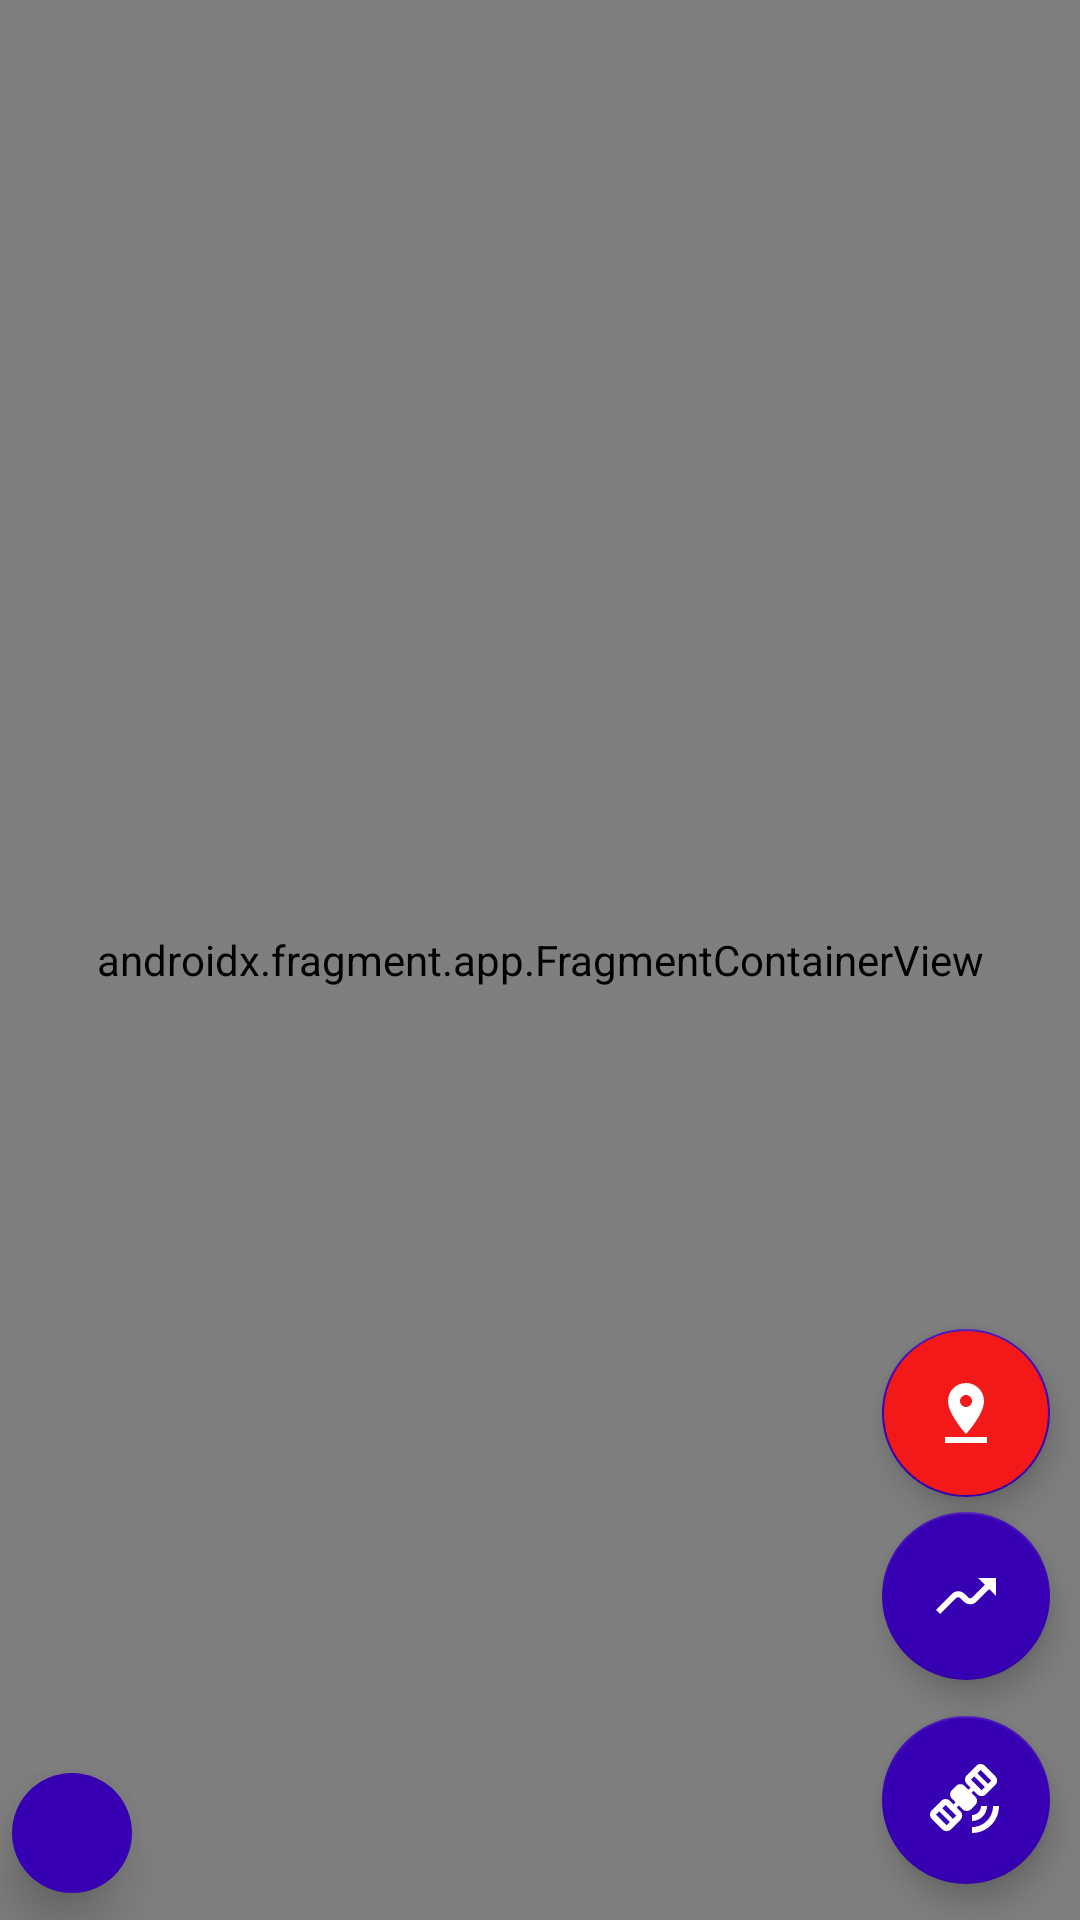

Where icons sit on this 1080px x 1920px app screen, as (x1, y1, x2, y2):
map: (882, 1329, 1050, 1497)
satellite: (882, 1716, 1050, 1884)
